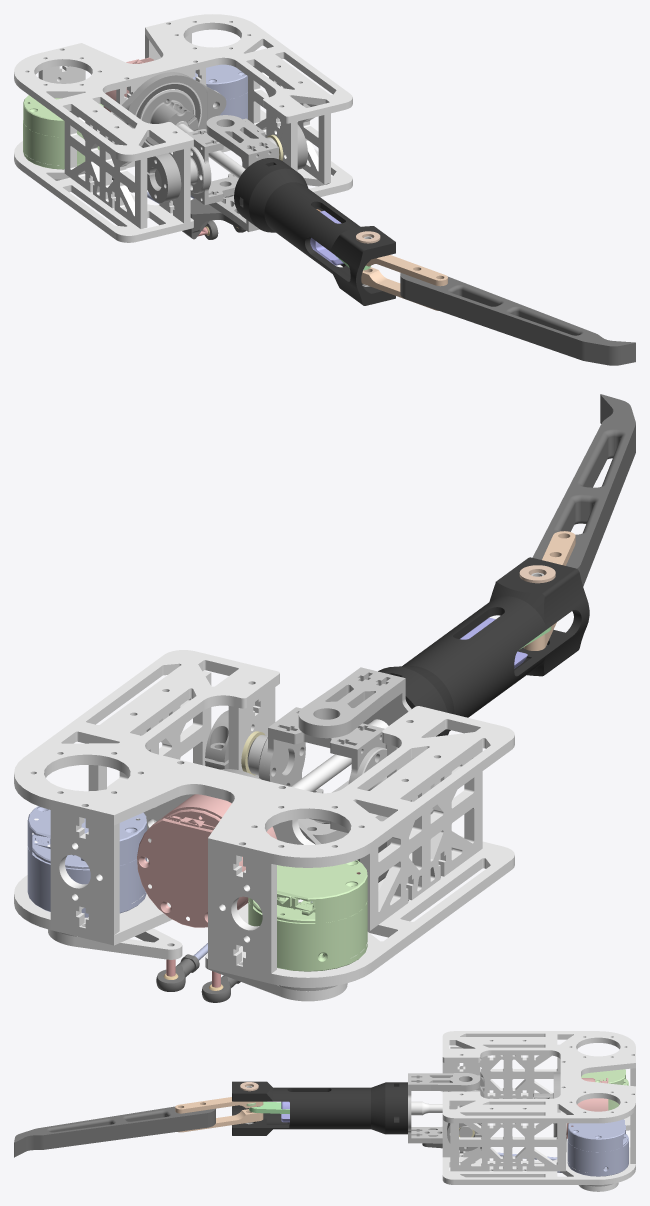
3 views of the same model, one above another, from view 1: azimuth 30°, elevation 25°; view 2: azimuth 150°, elevation 25°; view 3: azimuth 270°, elevation 25° (orthographic). The views are drawn at different scales.
Visible parts, largest first — view 1: PRT - MotorHolderRev2 - LuLe-2, PRT - Leg Chassis - LuLe-1, PRT - Knee Chassis - LuLe-1, PRT - MotorHolderRev2 - LuLe-1, PRT - SidePlatesRev2 - LuLe-3, PRT - SidePlatesRev2 - LuLe-2, AK40-10 KV170-15, PRT - BearingHousing - LuLe-1, AK40-10 KV170-12, PRT- Axial Clamp Square Knee - LuLe-1, PRT - YawBracket Top - LuLe-6, PRT - BushingClamp - LuLe-1 (+13 smaller); view 2: PRT - MotorHolderRev2 - LuLe-2, PRT - Leg Chassis - LuLe-1, PRT - MotorHolderRev2 - LuLe-1, AK40-10 KV170-15, PRT - SidePlatesRev2 - LuLe-3, AK40-10 KV170-9, PRT - BushingBlockRev2 - LuLe-5, PRT - BushingBlockRev2 - LuLe-4, PRT - Knee Chassis - LuLe-1, AK40-10 KV170-12, PRT - YawBracket Top - LuLe-6, PRT - SidePlatesRev2 - LuLe-2 (+10 smaller); view 3: PRT - MotorHolderRev2 - LuLe-2, PRT - Leg Chassis - LuLe-1, PRT - SidePlatesRev2 - LuLe-2, PRT - Knee Chassis - LuLe-1, PRT - MotorHolderRev2 - LuLe-1, AK40-10 KV170-12, PRT - SidePlatesRev2 - LuLe-3, PRT - YawBracket Top - LuLe-6, PRT - KneeFinal - LuLe-1, AK40-10 KV170-15, PRT - KneeFinal - LuLe-2, PRT - YawBracket Top - LuLe-7 (+8 smaller).
Part boxes in pixels (x1=…): PRT - MotorHolderRev2 - LuLe-2: x1=14, y1=14, x2=352, y2=161; PRT - Leg Chassis - LuLe-1: x1=234, y1=158, x2=395, y2=305; PRT - Knee Chassis - LuLe-1: x1=400, y1=273, x2=635, y2=365; PRT - MotorHolderRev2 - LuLe-1: x1=14, y1=109, x2=352, y2=242; PRT - SidePlatesRev2 - LuLe-3: x1=64, y1=98, x2=147, y2=228; PRT - SidePlatesRev2 - LuLe-2: x1=248, y1=54, x2=330, y2=184; AK40-10 KV170-15: x1=23, y1=95, x2=103, y2=169; PRT - BearingHousing - LuLe-1: x1=113, y1=72, x2=226, y2=130; AK40-10 KV170-12: x1=193, y1=64, x2=247, y2=119; PRT- Axial Clamp Square Knee - LuLe-1: x1=142, y1=91, x2=198, y2=145; PRT - YawBracket Top - LuLe-6: x1=206, y1=115, x2=278, y2=161; PRT - BushingClamp - LuLe-1: x1=147, y1=153, x2=181, y2=202; PRT - MotorHolderRev2 - LuLe-2: x1=14, y1=650, x2=514, y2=867; PRT - Leg Chassis - LuLe-1: x1=378, y1=557, x2=589, y2=736; PRT - MotorHolderRev2 - LuLe-1: x1=14, y1=836, x2=514, y2=987; AK40-10 KV170-15: x1=248, y1=860, x2=367, y2=971; PRT - SidePlatesRev2 - LuLe-3: x1=360, y1=738, x2=482, y2=930; AK40-10 KV170-9: x1=137, y1=794, x2=277, y2=927; PRT - BushingBlockRev2 - LuLe-5: x1=50, y1=799, x2=119, y2=942; PRT - BushingBlockRev2 - LuLe-4: x1=208, y1=837, x2=276, y2=980; PRT - Knee Chassis - LuLe-1: x1=532, y1=394, x2=635, y2=586; AK40-10 KV170-12: x1=27, y1=806, x2=146, y2=917; PRT - YawBracket Top - LuLe-6: x1=298, y1=667, x2=405, y2=735; PRT - SidePlatesRev2 - LuLe-2: x1=88, y1=670, x2=211, y2=820; PRT - MotorHolderRev2 - LuLe-2: x1=442, y1=1031, x2=635, y2=1123; PRT - Leg Chassis - LuLe-1: x1=232, y1=1081, x2=407, y2=1135; PRT - SidePlatesRev2 - LuLe-2: x1=450, y1=1107, x2=565, y2=1171; PRT - Knee Chassis - LuLe-1: x1=14, y1=1106, x2=215, y2=1157; PRT - MotorHolderRev2 - LuLe-1: x1=442, y1=1092, x2=635, y2=1184; AK40-10 KV170-12: x1=567, y1=1119, x2=628, y2=1176; PRT - SidePlatesRev2 - LuLe-3: x1=450, y1=1039, x2=560, y2=1098; PRT - YawBracket Top - LuLe-6: x1=408, y1=1073, x2=480, y2=1090; PRT - KneeFinal - LuLe-1: x1=175, y1=1097, x2=263, y2=1113; AK40-10 KV170-15: x1=581, y1=1069, x2=628, y2=1110; PRT - KneeFinal - LuLe-2: x1=178, y1=1109, x2=263, y2=1132; PRT - YawBracket Top - LuLe-7: x1=408, y1=1126, x2=442, y2=1143.
Size of the model in its own units: 0.178 by 0.093 by 0.5375.
